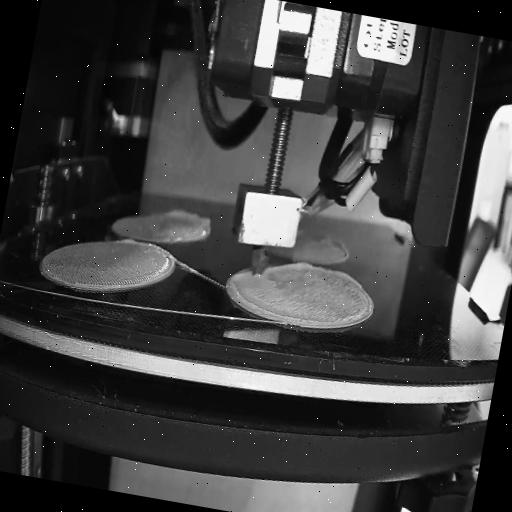over_extrusion: (266, 251, 316, 285), (162, 206, 215, 236), (226, 265, 252, 298), (334, 238, 353, 268), (115, 231, 138, 248)
